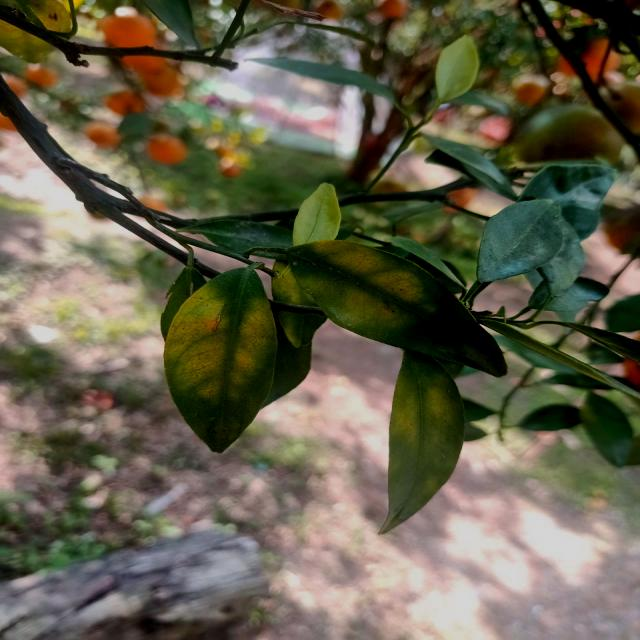blackspot: (156, 281, 278, 443), (307, 247, 475, 360), (473, 209, 560, 281)
